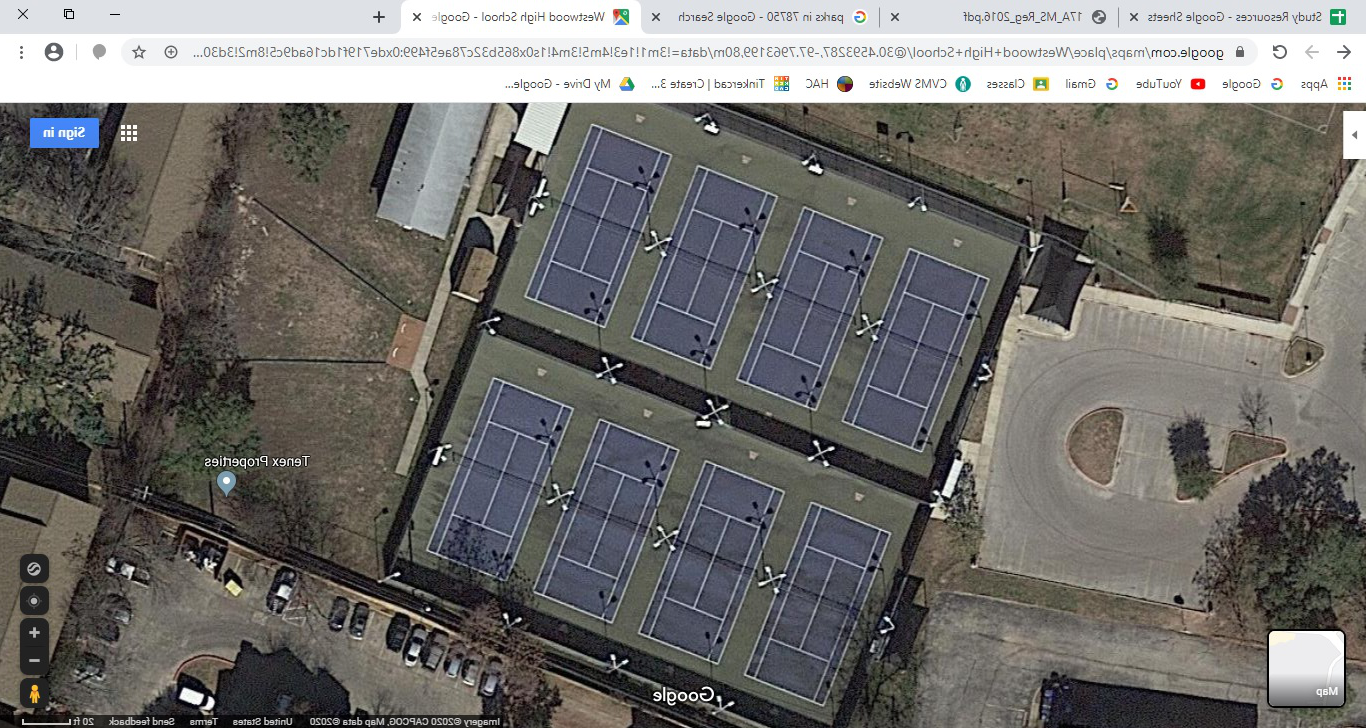tennis: (866, 240, 998, 506), (536, 118, 672, 322), (434, 354, 550, 566)
